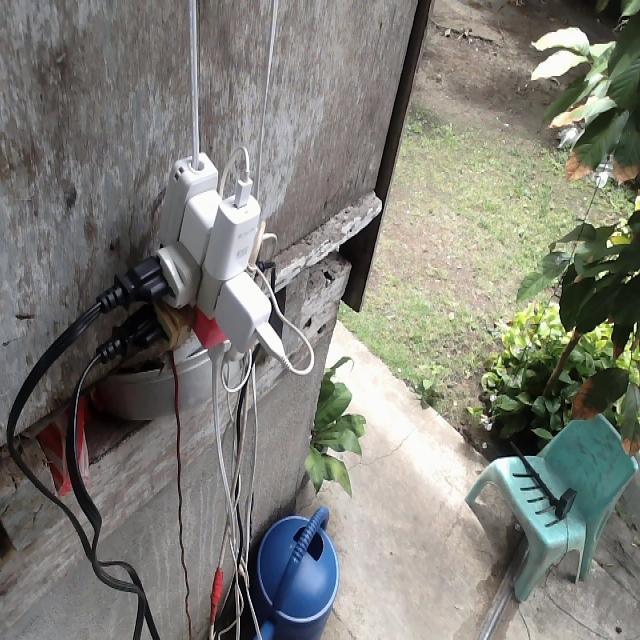-: (93, 144, 298, 393)
